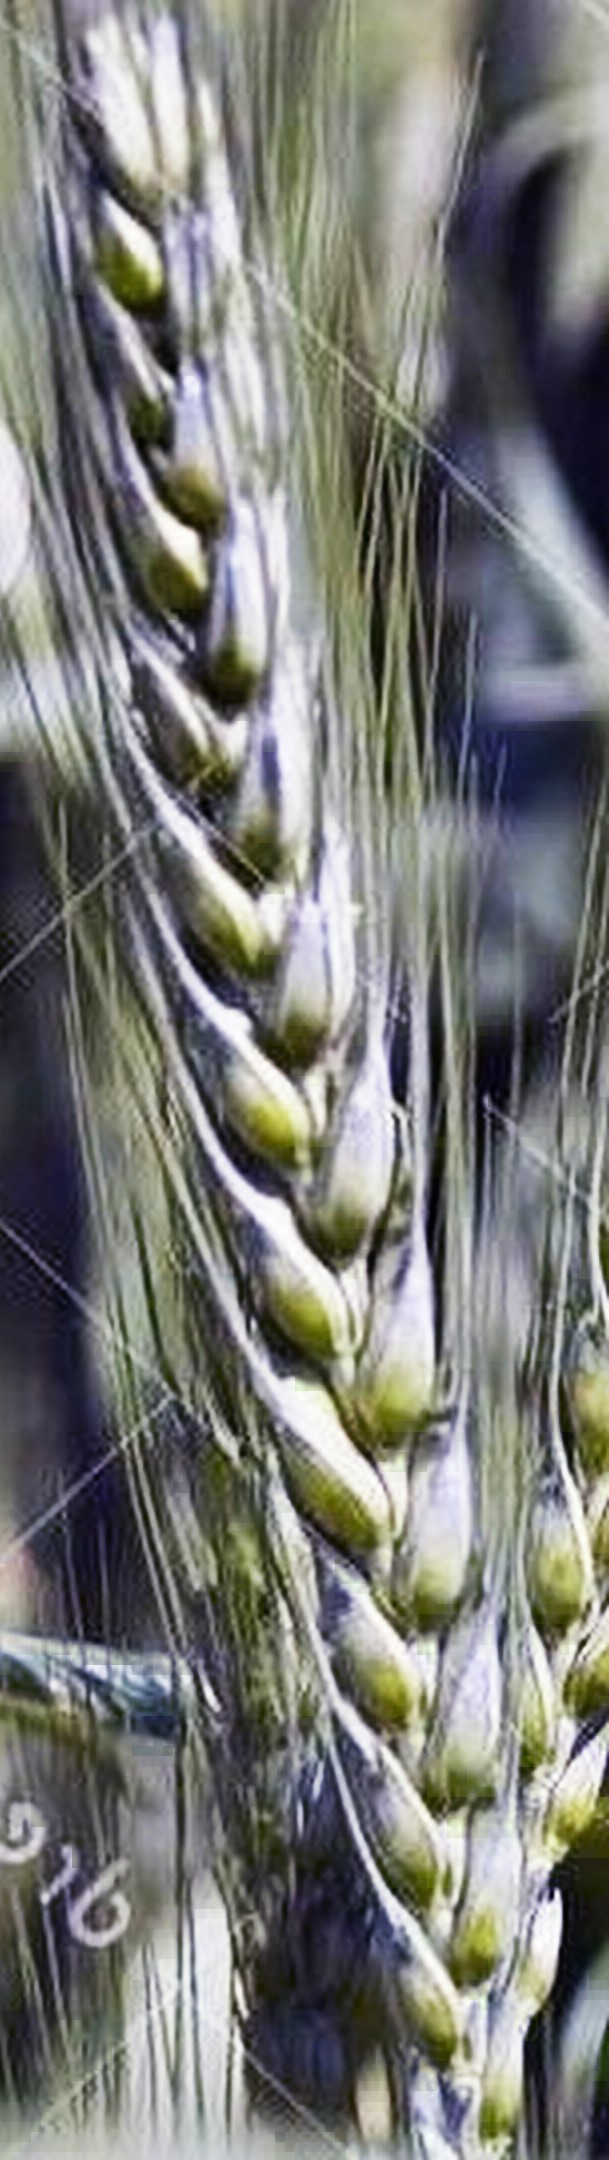Healthy Wheat: (33, 50, 570, 1884)
